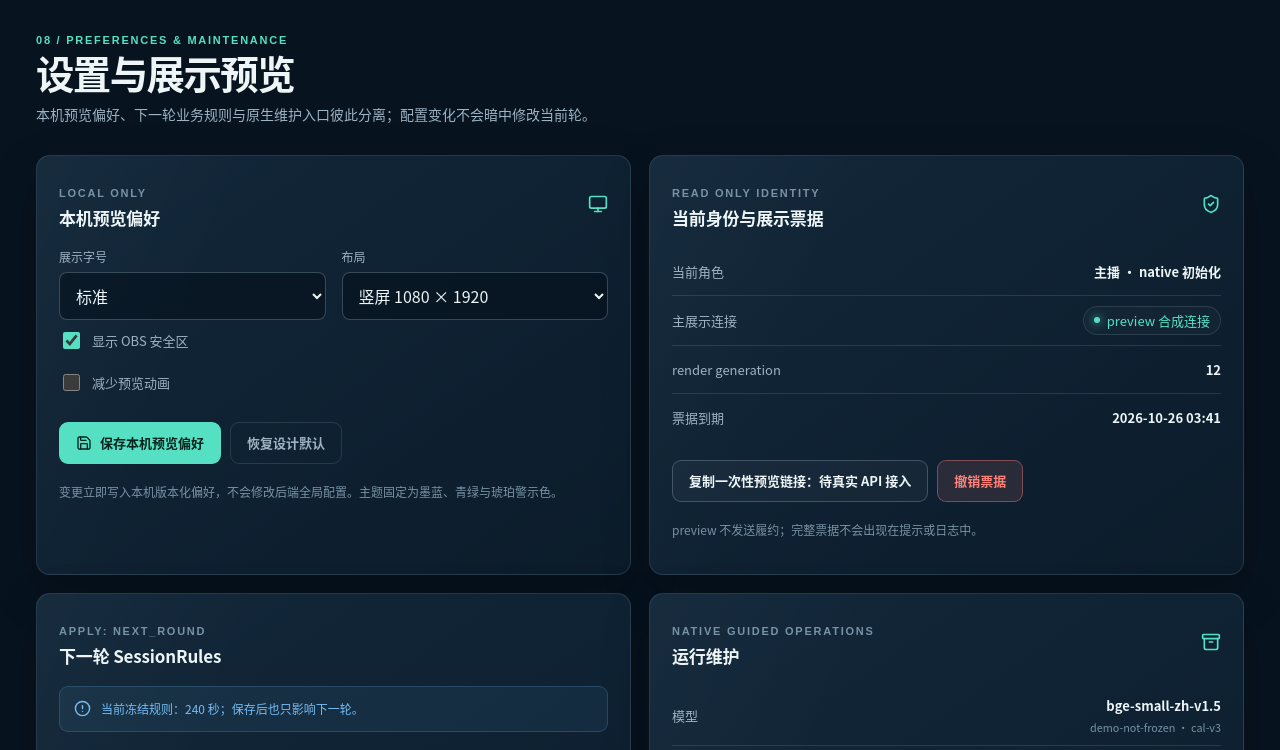
Scenario: 设置与展示预览 › 撤票与备份维护都需要明确确认
Click the button "撤销票据" at (980, 481), box [937, 460, 1023, 502]
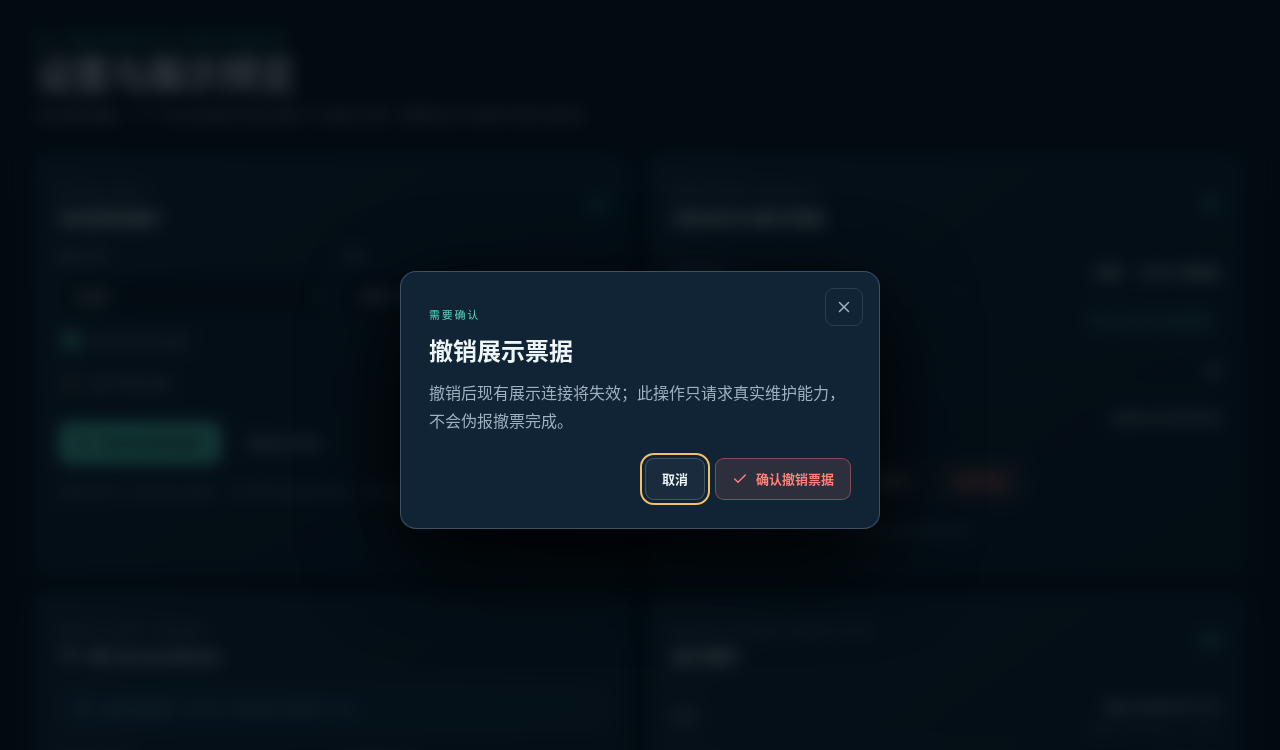
Check: the dialog shows "撤销后现有展示连接将失效", box [429, 380, 845, 432]
Click the button "确认撤销票据" at (783, 479), box [715, 458, 851, 500]
(page scrolled)
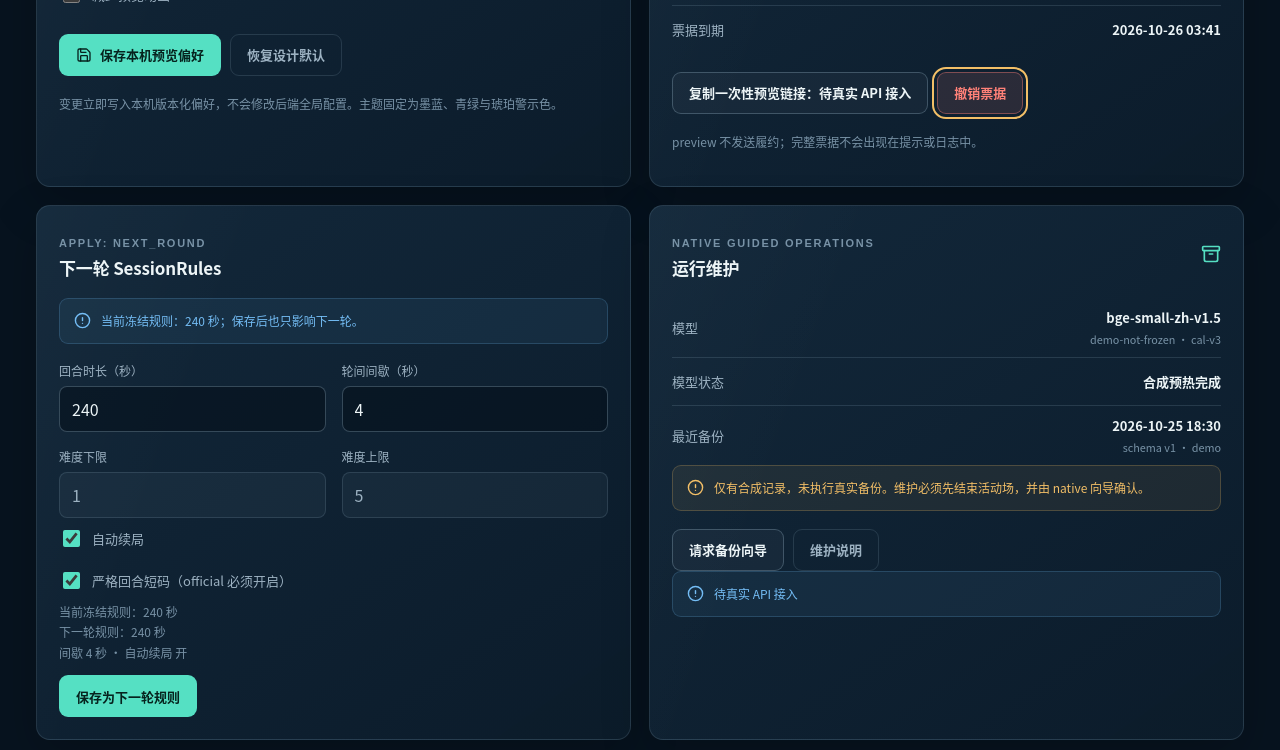
Check: the text "待真实 API 接入" is shown, box [714, 584, 798, 604]
Click the button "请求备份向导" at (728, 550), box [672, 529, 784, 571]
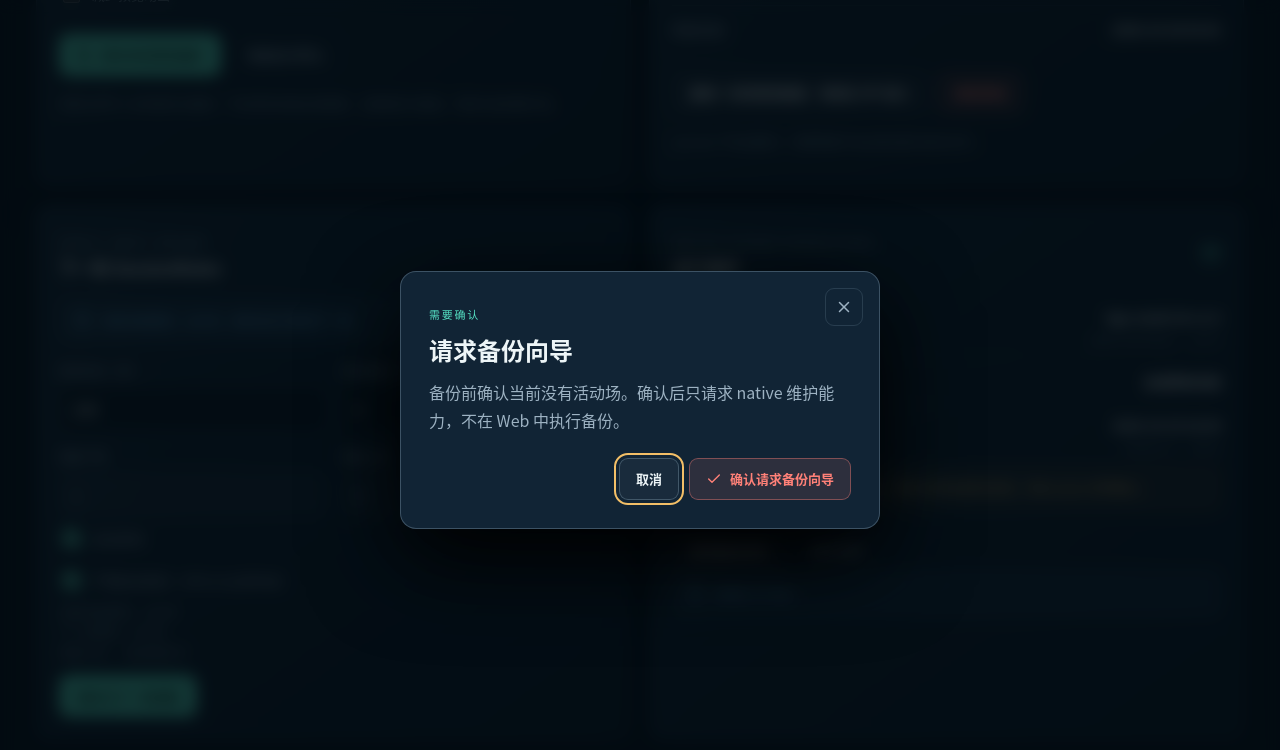
Check: the dialog shows "备份前确认当前没有活动场", box [429, 380, 834, 432]
Click the button "确认请求备份向导" at (770, 479), box [689, 458, 851, 500]
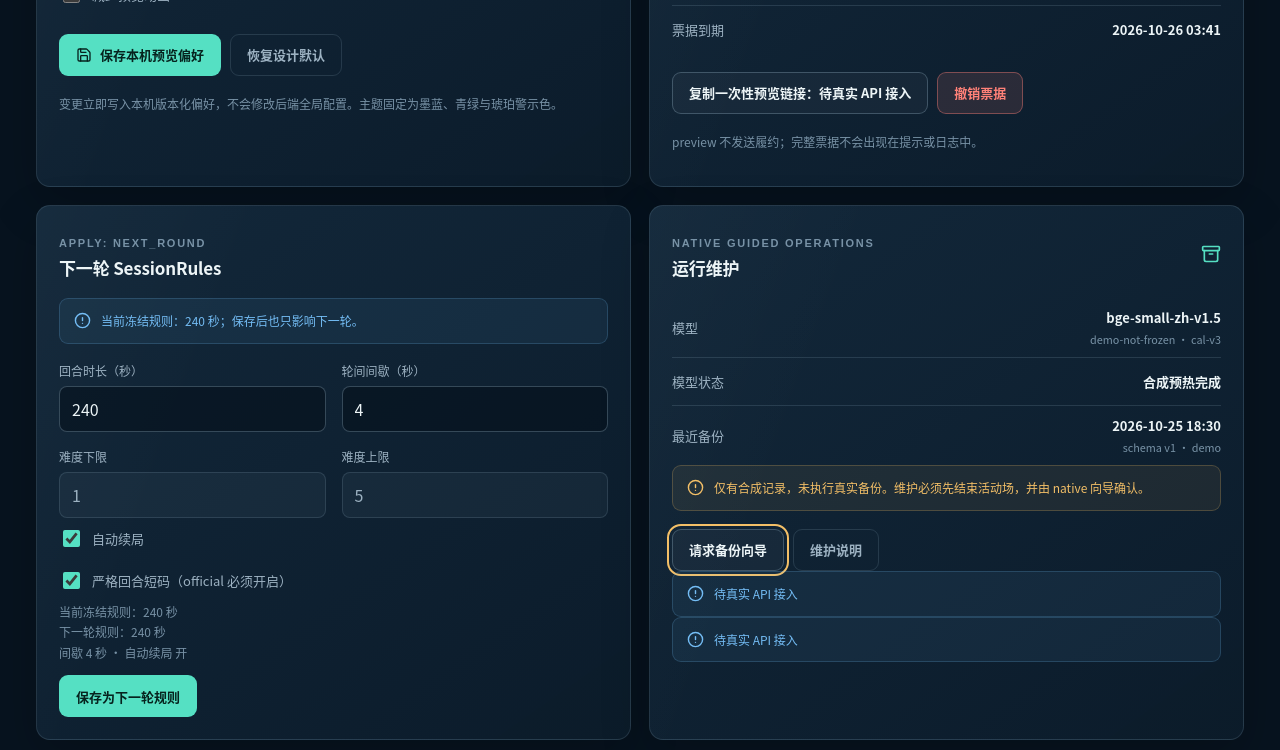
Check: the text "待真实 API 接入" is shown 2 times, box [714, 584, 798, 604]; [714, 630, 798, 649]
